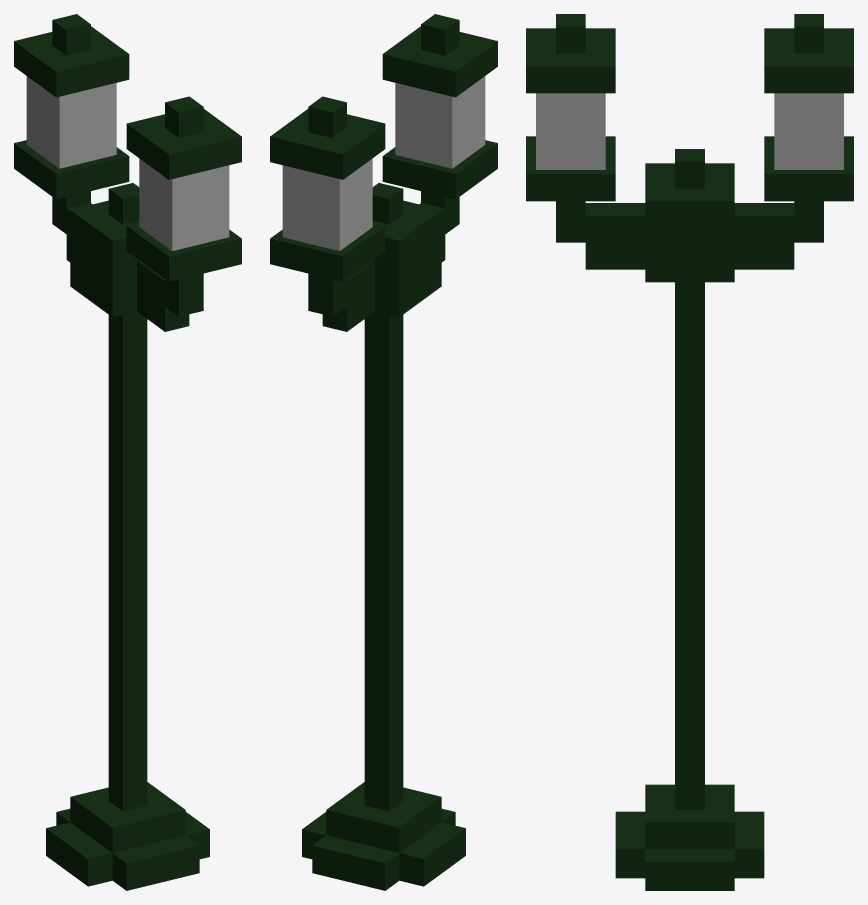
File: LampPost_Mesh_001.fbx
3 views of the same model, side by side, from view 1: azimuth 30°, elevation 25°; view 2: azimuth 150°, elevation 25°; view 3: azimuth 270°, elevation 25° (orthographic). The views are drawn at different scales.
Visible parts, largest first — view 1: LampPost_001; view 2: LampPost_001; view 3: LampPost_001.
Part boxes in pixels (bbox=[...]): LampPost_001: bbox=[14, 14, 241, 890]; LampPost_001: bbox=[270, 14, 497, 890]; LampPost_001: bbox=[526, 14, 853, 890].
Bounding box in the file's own units: 0.5 × 3.11 × 1.1.
